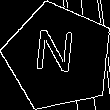N_S: (36, 30, 82, 84)
